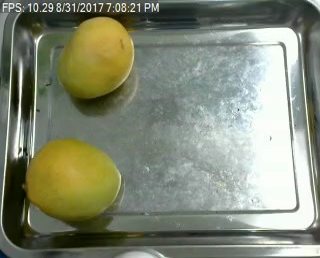Mango: (27, 140, 122, 222), (57, 15, 134, 97)
